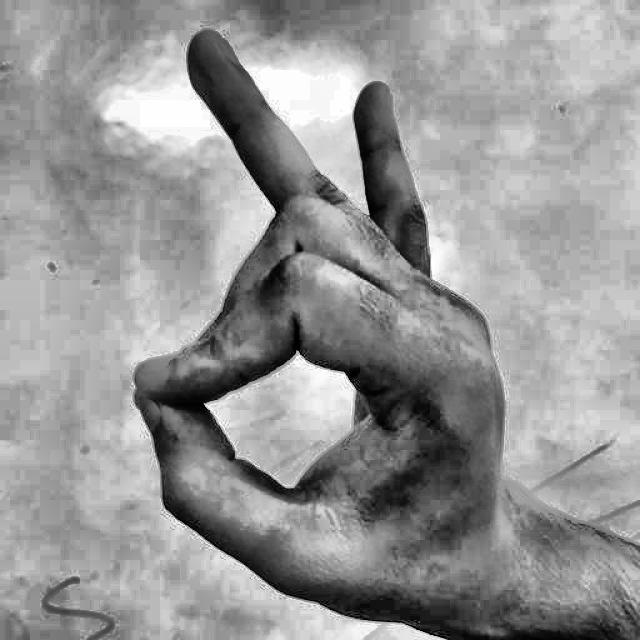Na: (85, 11, 528, 639)
